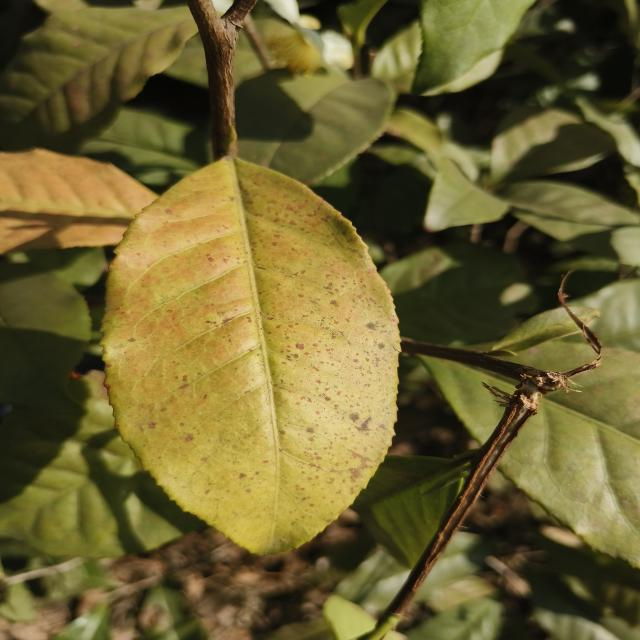Leaf: (102, 159, 400, 553), (0, 370, 206, 558), (500, 347, 640, 566), (0, 6, 197, 153), (235, 70, 395, 183), (0, 149, 157, 254), (379, 242, 531, 346), (0, 264, 91, 413), (352, 456, 471, 566), (500, 181, 640, 266), (413, 0, 534, 92), (490, 109, 614, 182), (424, 357, 510, 442), (424, 158, 509, 231), (516, 339, 591, 369)
